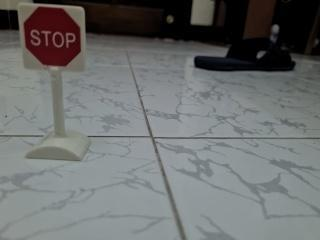stop: (13, 0, 93, 80)
